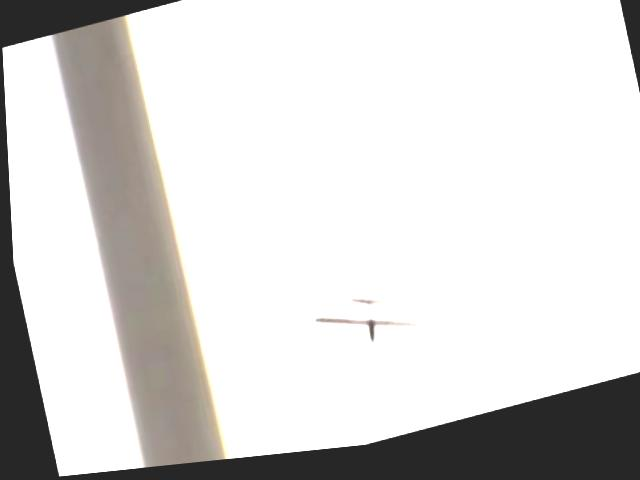uav: (294, 277, 436, 386)
